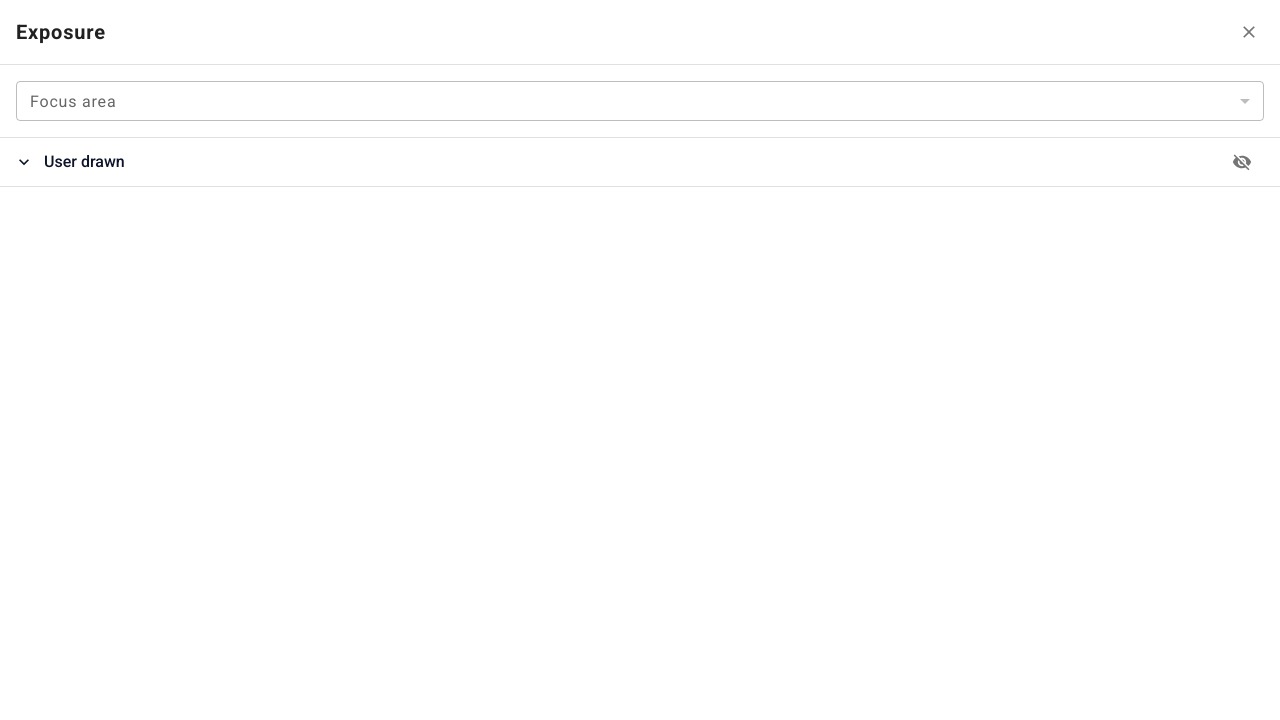
Scenario: ExposureView › Send to Data Room › opens confirmation dialog when Send to Data Room is clicked
Expected: the text "User drawn" is shown, left=44, top=152, right=125, bottom=171
Click the button "User drawn" at [84, 162], box left=0, top=138, right=1204, bottom=186
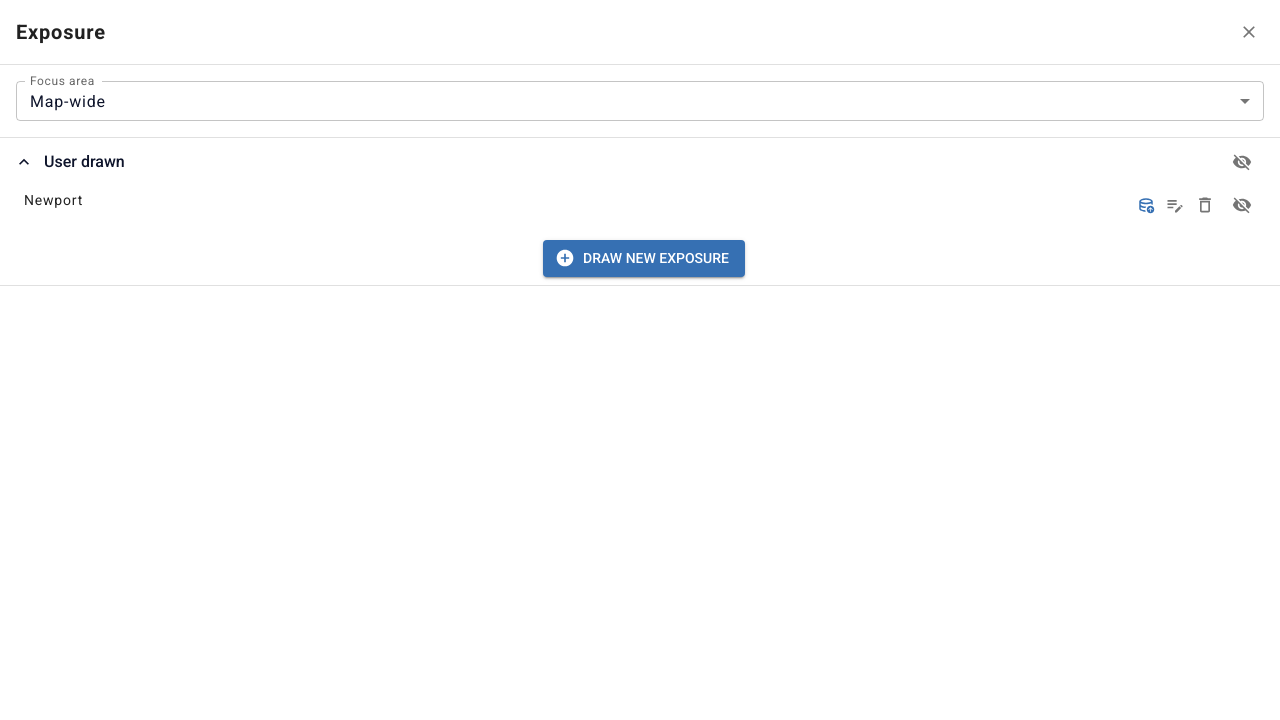
Result: the button named "Send to Data Room" is shown
Click the button named "Send to Data Room" at [1146, 205], box left=1132, top=191, right=1160, bottom=219
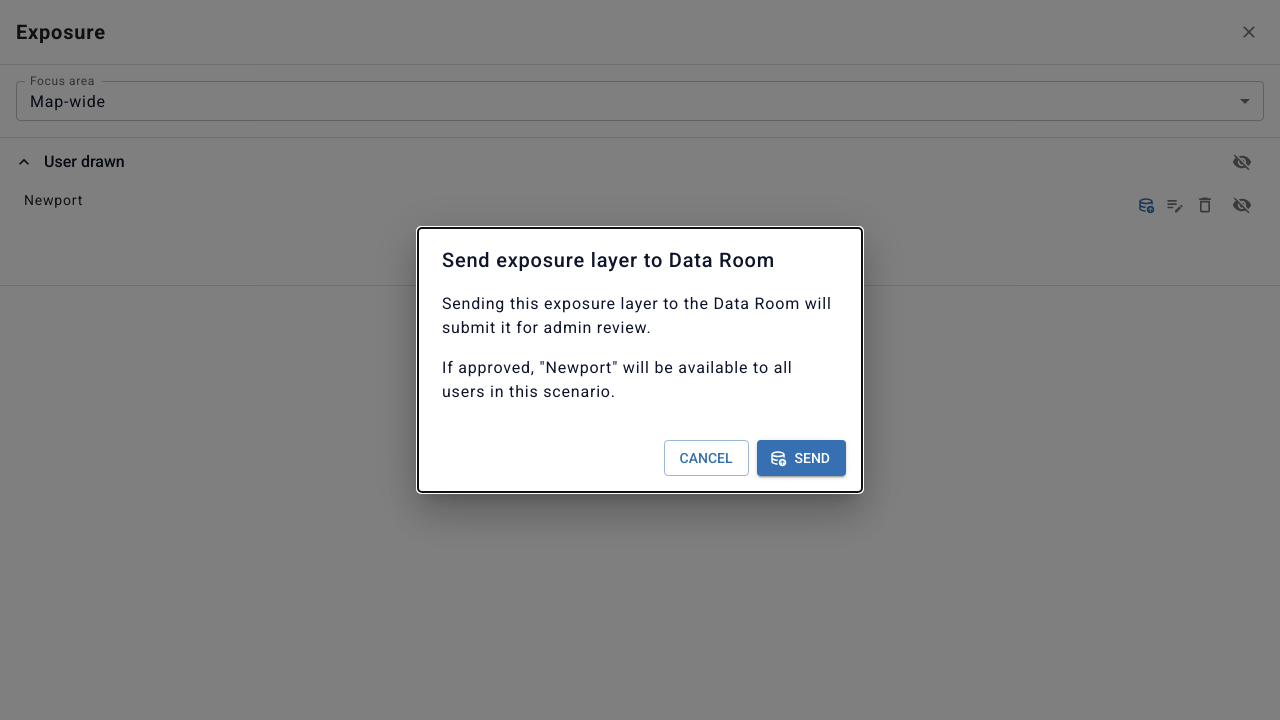
Result: the heading "Send exposure layer to Data Room" is shown at left=442, top=248, right=775, bottom=272
Result: the text "submit it for admin review" is shown at left=442, top=294, right=832, bottom=337
Result: the text "will be available to all users" is shown at left=442, top=358, right=792, bottom=401
